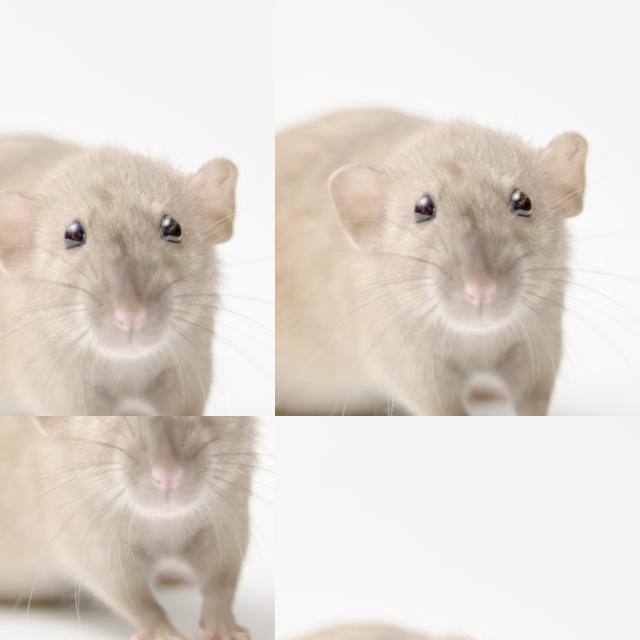rat: (273, 105, 589, 418), (1, 135, 237, 417), (0, 418, 259, 638)
